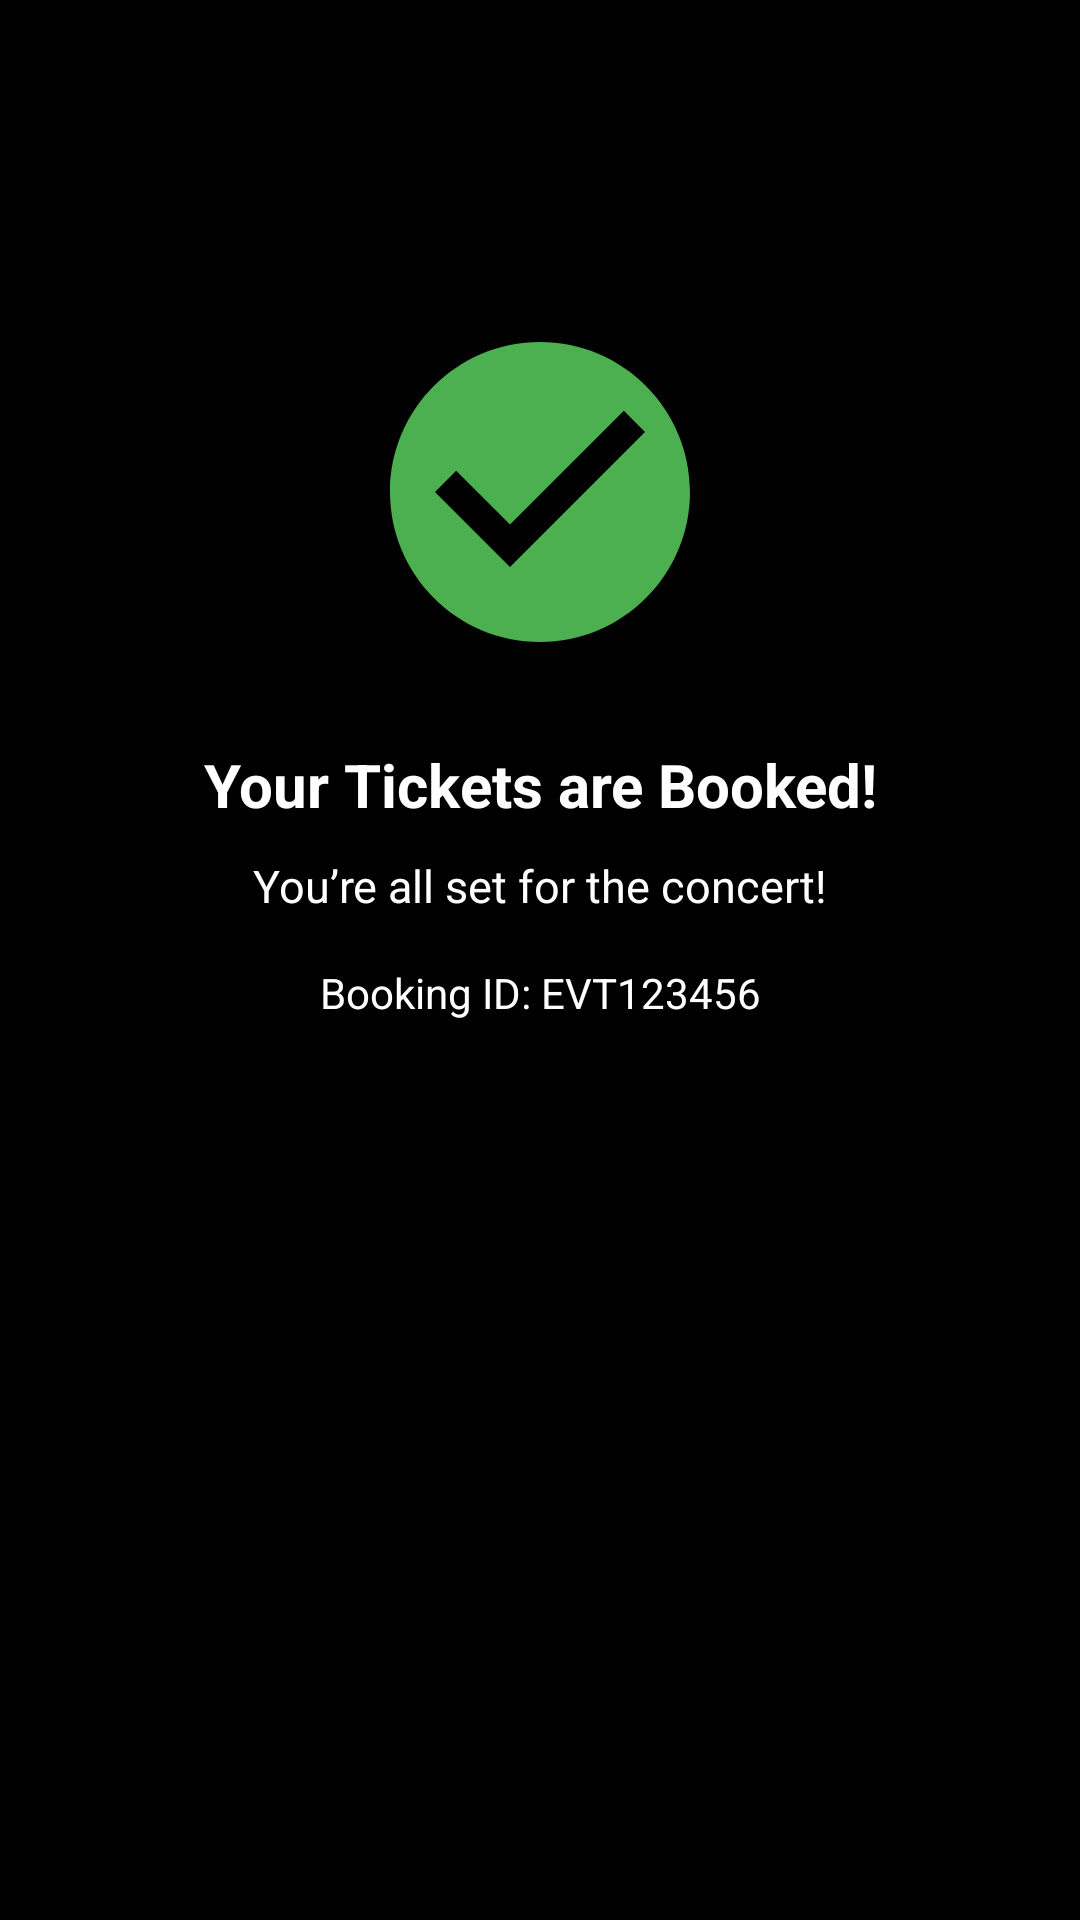

Icon bounding boxes for this 1080 x 1920 phone screenshot, format BBox(x1, y1, x2, y2):
check circle: BBox(390, 342, 690, 642)
